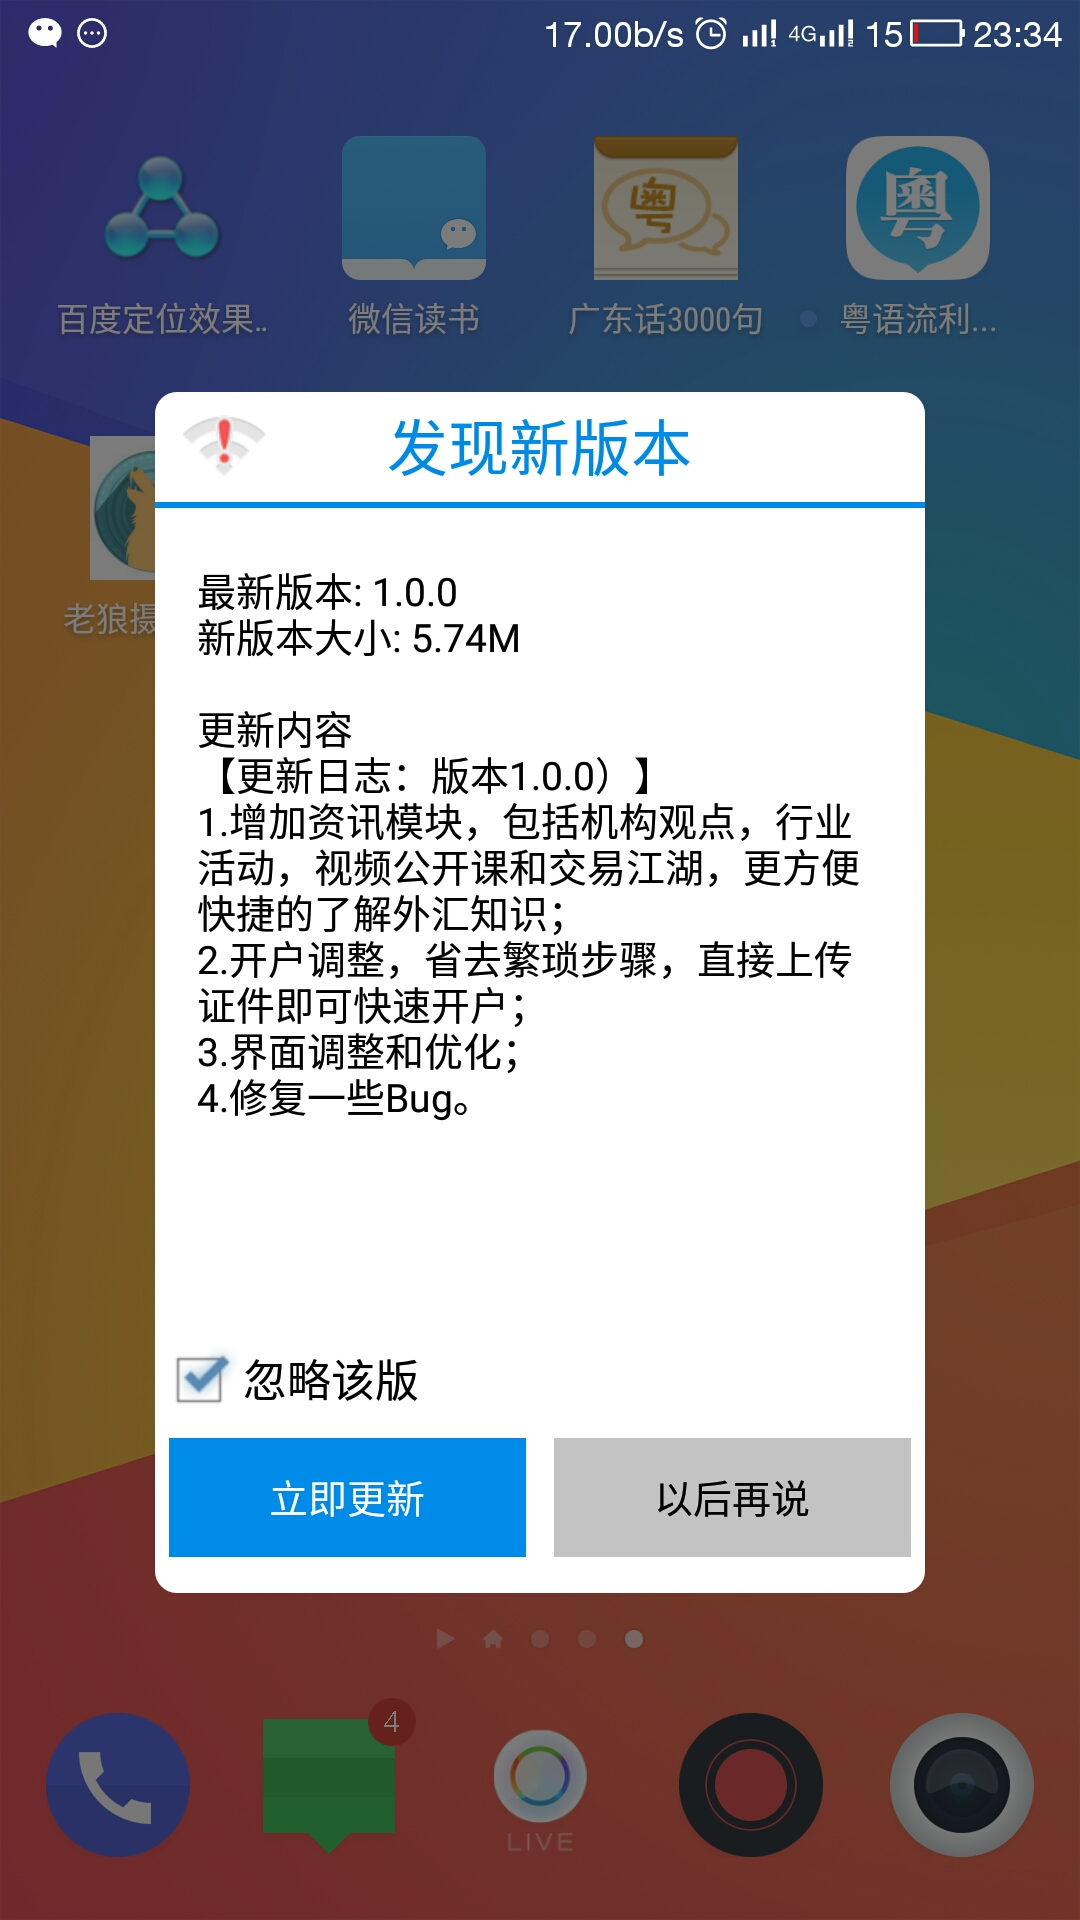alert: (157, 380, 938, 1606)
button: (545, 1425, 918, 1576), (165, 1425, 535, 1559)
checkbox: (167, 1338, 447, 1419)
textview: (186, 543, 886, 1170)
